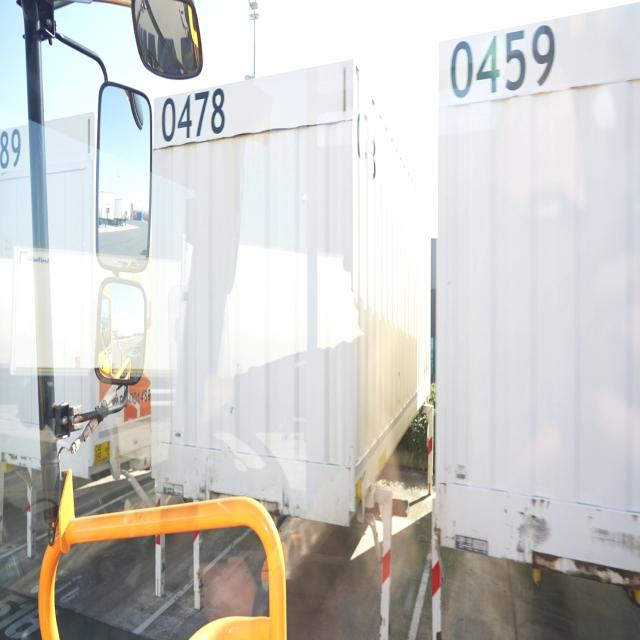Code: (447, 24, 557, 104), (158, 83, 230, 146)
